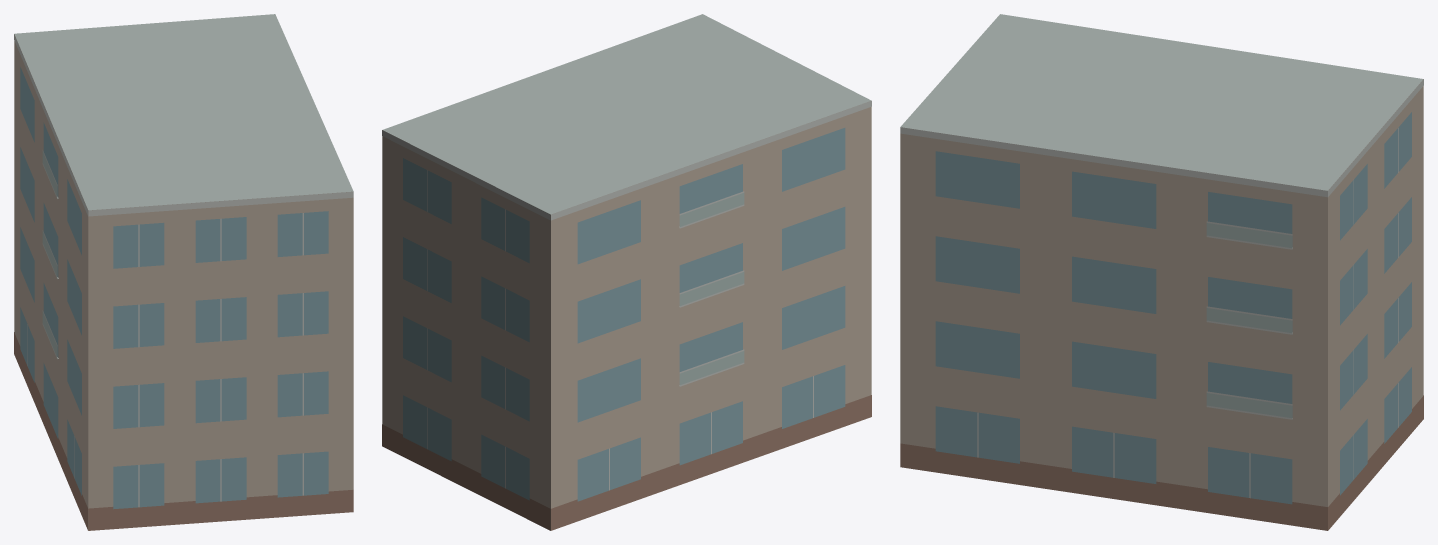
The model's file is survey-upis-32881829.glb.
The picture shows the model from 3 angles, left to right: view 1: azimuth 30°, elevation 25°; view 2: azimuth 150°, elevation 25°; view 3: azimuth 270°, elevation 25°; orthographic projection. The views are drawn at different scales.
Parts seen in each view (by area): view 1: survey-upis-32881829.tmp; view 2: survey-upis-32881829.tmp; view 3: survey-upis-32881829.tmp.
Boxes of the visible parts, box(x1,y1,x2,y2) form: survey-upis-32881829.tmp: box(14, 14, 353, 530); survey-upis-32881829.tmp: box(382, 14, 871, 530); survey-upis-32881829.tmp: box(900, 14, 1423, 530).
Bounding box in the file's own units: 14.28 × 12.8 × 17.87.
